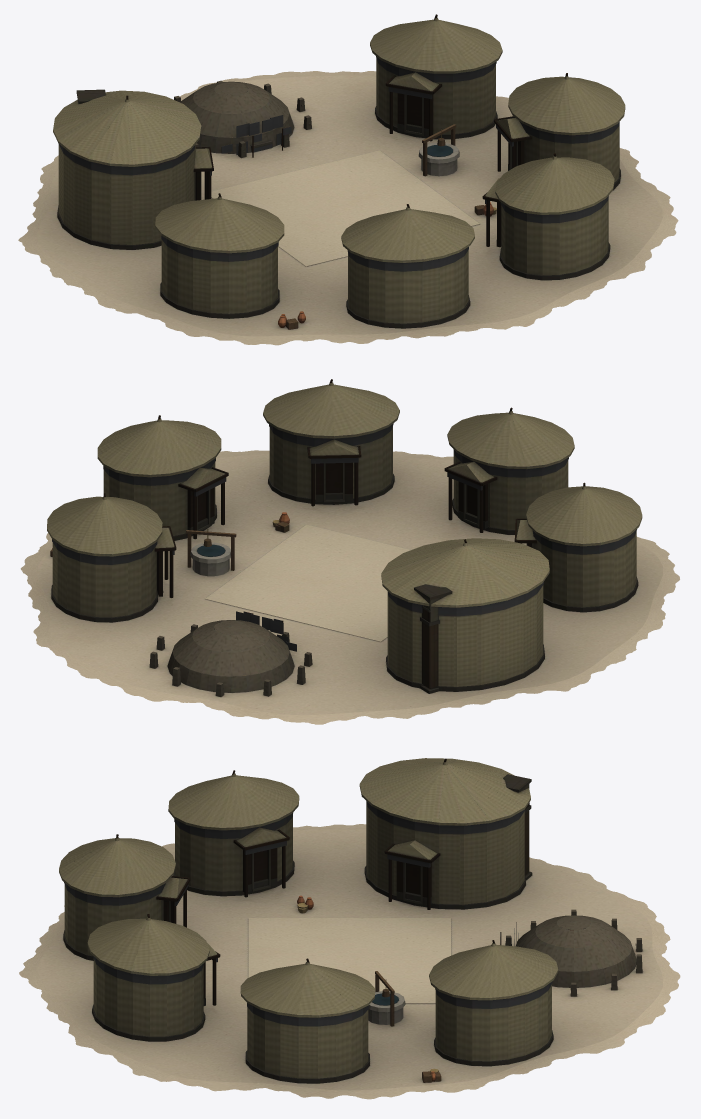
File: bronze-town-small-a-steppe.glb
3 views of the same model, one above another, from view 1: azimuth 30°, elevation 25°; view 2: azimuth 150°, elevation 25°; view 3: azimuth 270°, elevation 25° (orthographic).
Parts seen in each view (by area): view 1: LOD0; view 2: LOD0; view 3: LOD0.
Boxes of the visible parts, x1,y1,x2,y2 form: LOD0: (18,14,678,345); LOD0: (20,379,679,724); LOD0: (19,758,680,1099).
Size of what is drawn, in the model's own units: 3.94 by 0.8174 by 4.
3 materials, 3 textured.
